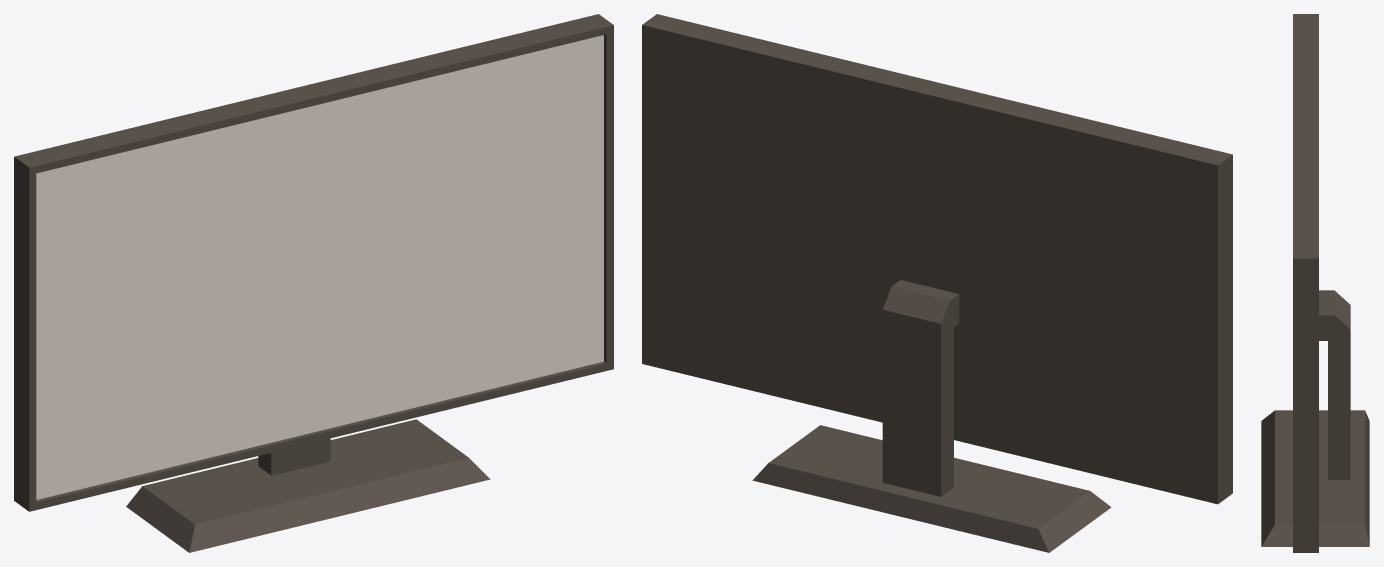
The model's file is kitTelevisionModern.glb.
3 renders of one model, left to right at view 1: azimuth 30°, elevation 25°; view 2: azimuth 150°, elevation 25°; view 3: azimuth 270°, elevation 25°, orthographic. The views are drawn at different scales.
Visible parts, largest first — view 1: kitTelevisionModern_metal, kitTelevisionModern_metalDark; view 2: kitTelevisionModern_metalDark; view 3: kitTelevisionModern_metalDark.
Boxes of the visible parts, left/top/right/bottom form: kitTelevisionModern_metal: left=36, top=35, right=603, bottom=499; kitTelevisionModern_metalDark: left=14, top=14, right=613, bottom=552; kitTelevisionModern_metalDark: left=642, top=14, right=1232, bottom=552; kitTelevisionModern_metalDark: left=1261, top=14, right=1369, bottom=552.
Size of the model in its own units: 1.37 by 0.9095 by 0.2568.
